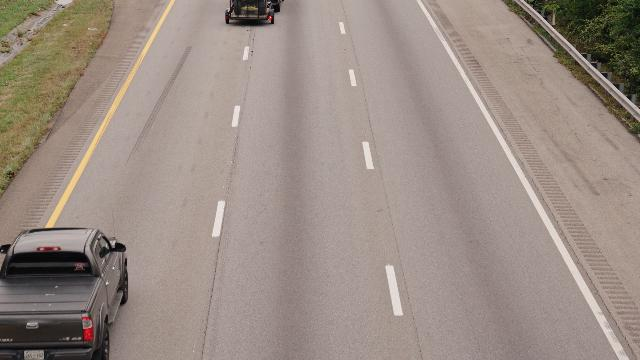pickup-truck: (0, 227, 133, 360)
